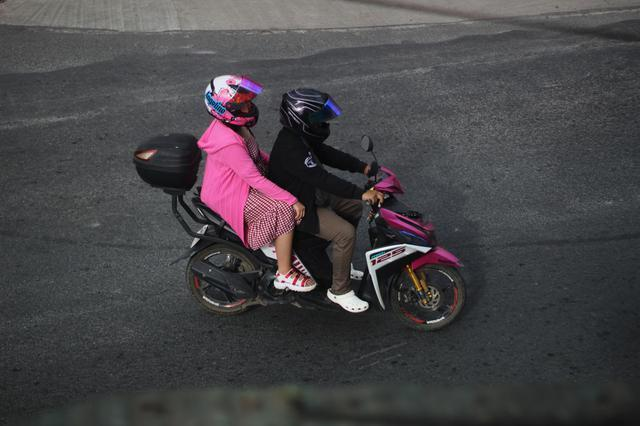helmet: (278, 87, 336, 145), (205, 74, 262, 128)
motorcycle: (175, 76, 469, 332)
